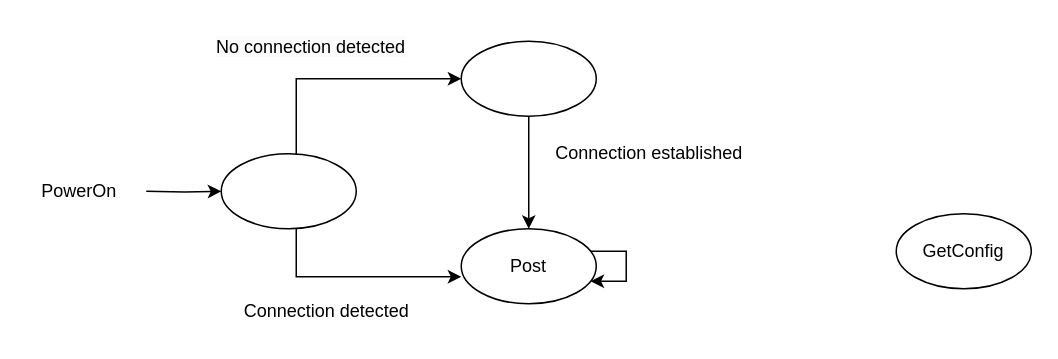
This 1058x359 diagram has some shape labels left out. The box of each missing label's shape, as (x1, y1, x2, y2) in pixels:
Idle: (460, 40, 596, 116)
Init: (220, 152, 356, 229)
